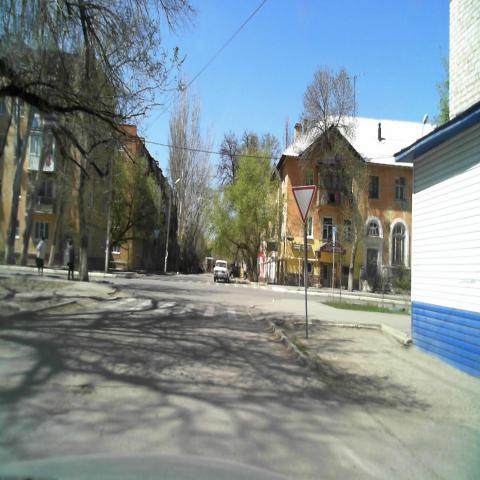2_4: (292, 185, 317, 226)
5_19_1: (331, 226, 337, 248)
